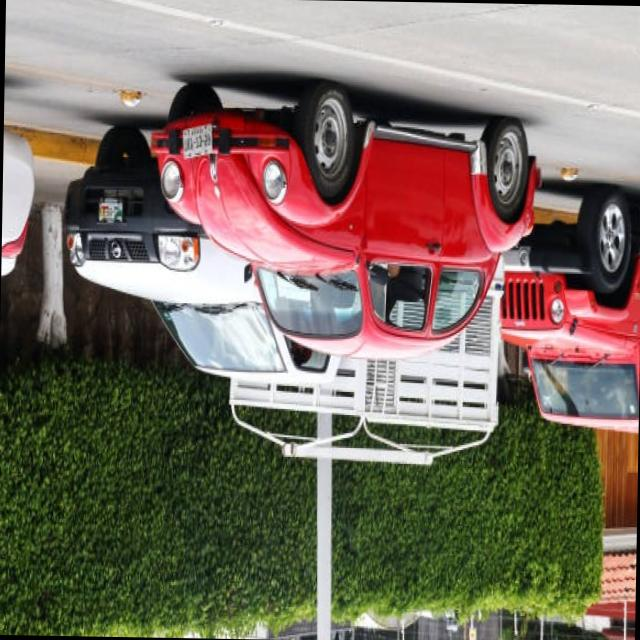car: (51, 140, 498, 384), (144, 98, 544, 360), (498, 199, 640, 421)
